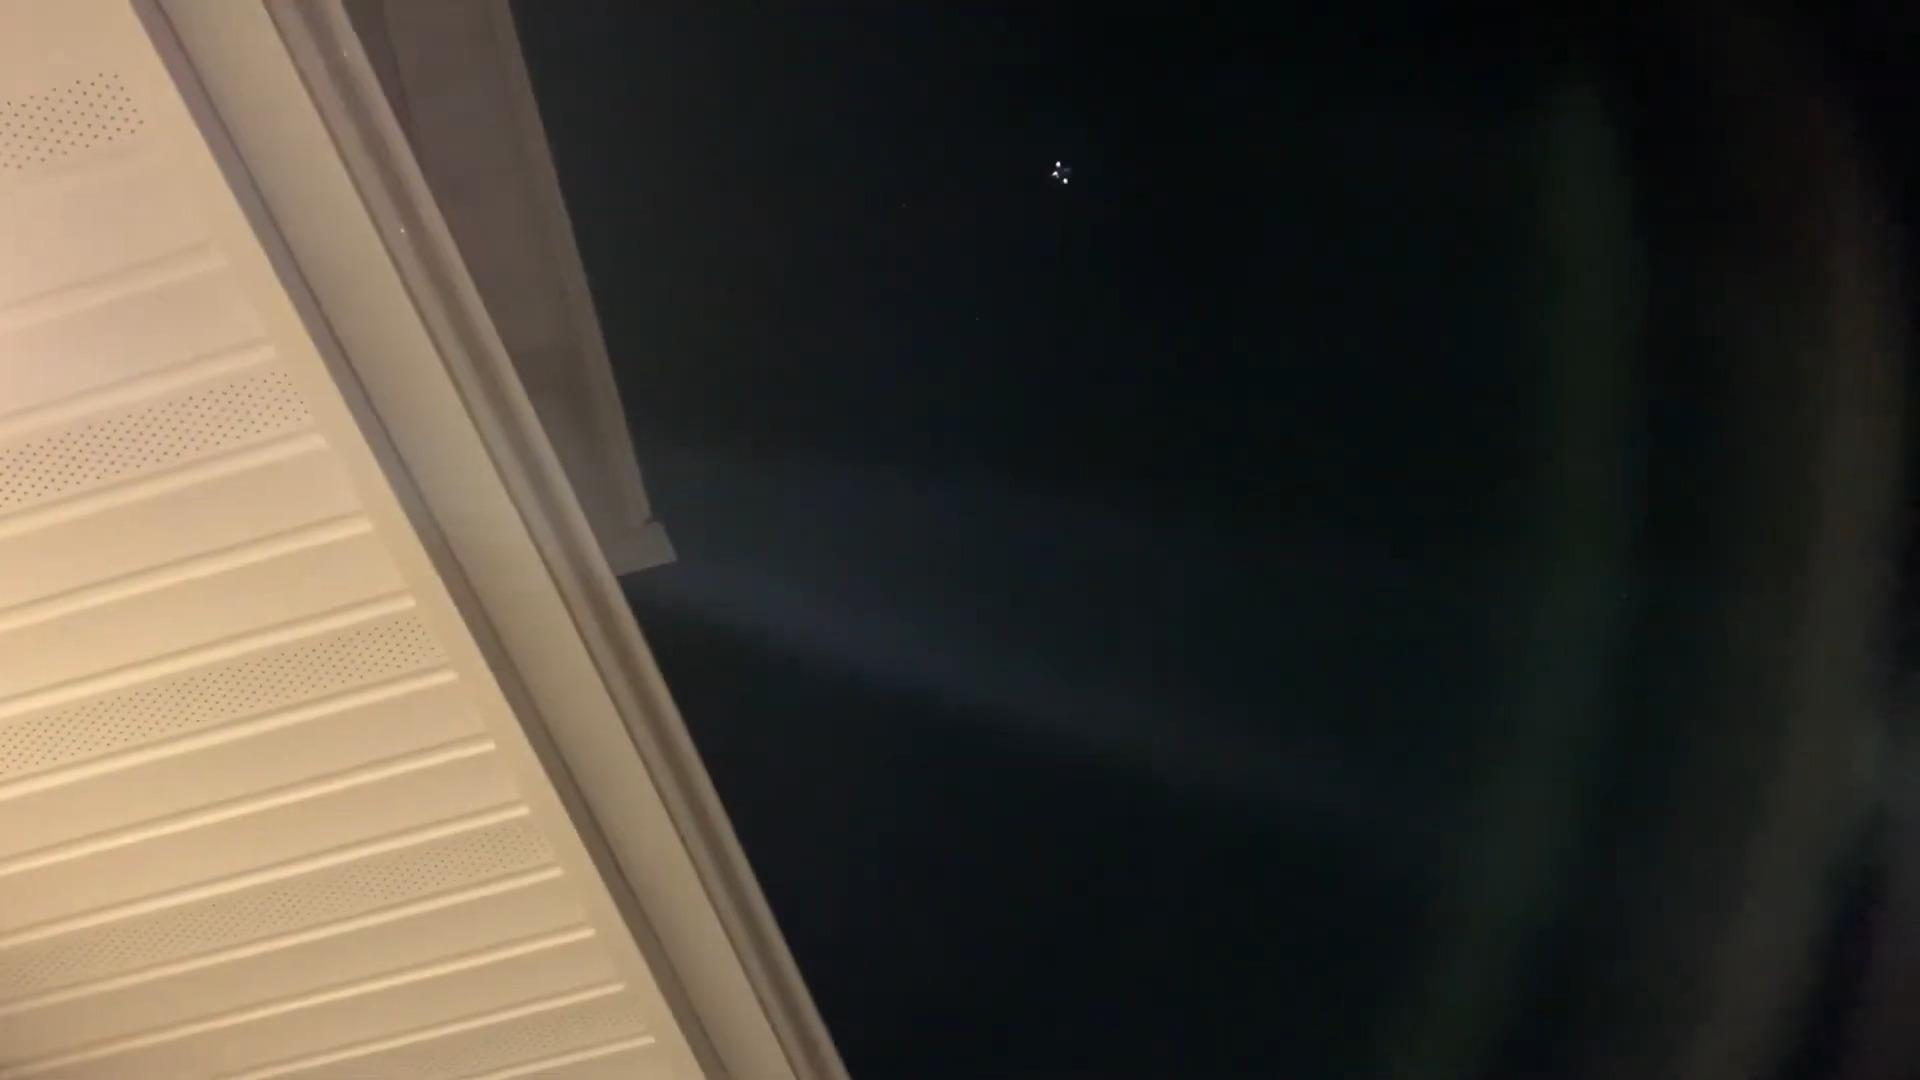Plane: (1042, 132, 1085, 215)
